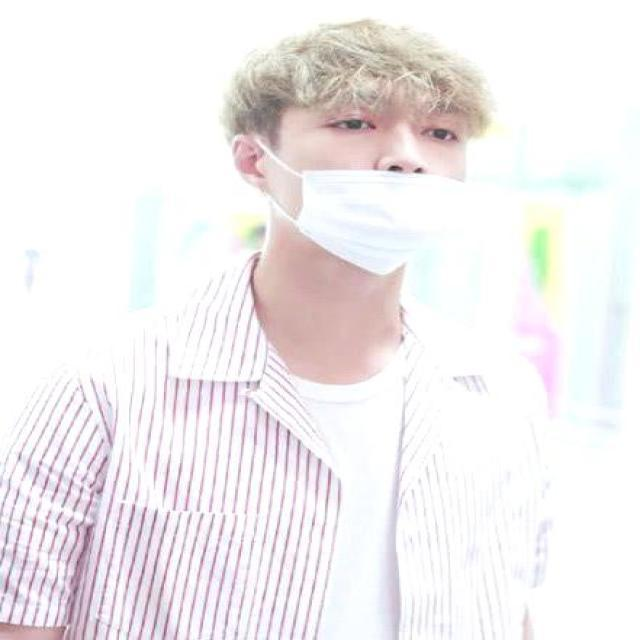hairnet: (255, 41, 478, 278)
